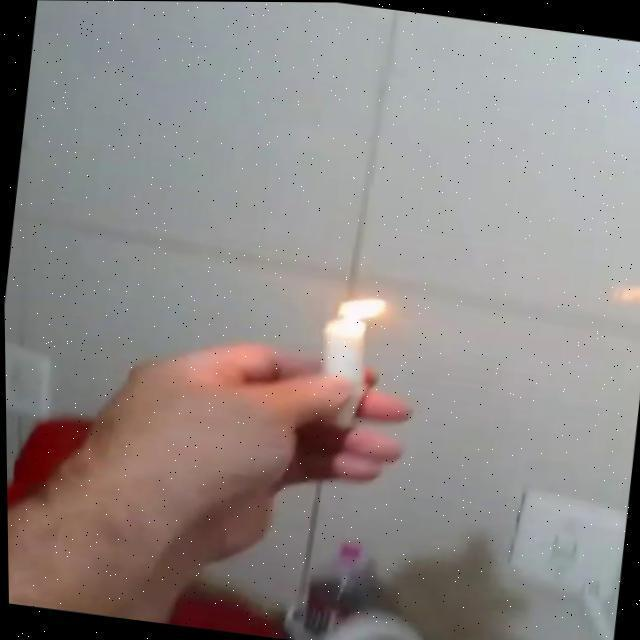fire: (330, 289, 389, 328)
